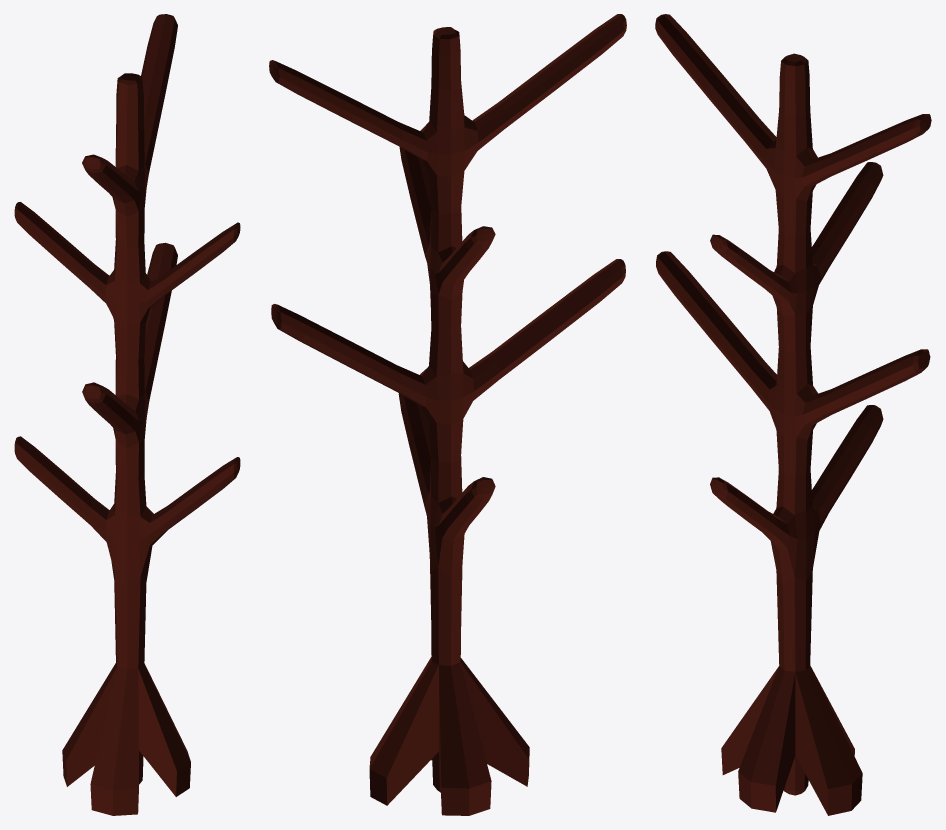
File: Coat Rack 2.fbx
The picture shows the model from 3 angles, left to right: view 1: azimuth 30°, elevation 25°; view 2: azimuth 150°, elevation 25°; view 3: azimuth 270°, elevation 25°; orthographic projection. The views are drawn at different scales.
Visible parts, largest first — view 1: Node 0; view 2: Node 0; view 3: Node 0.
Boxes of the visible parts, bbox=[...] form: Node 0: bbox=[14, 14, 240, 815]; Node 0: bbox=[269, 14, 626, 815]; Node 0: bbox=[655, 14, 931, 815].
Size of the model in its own units: 0.5678 by 1.66 by 0.5234.
